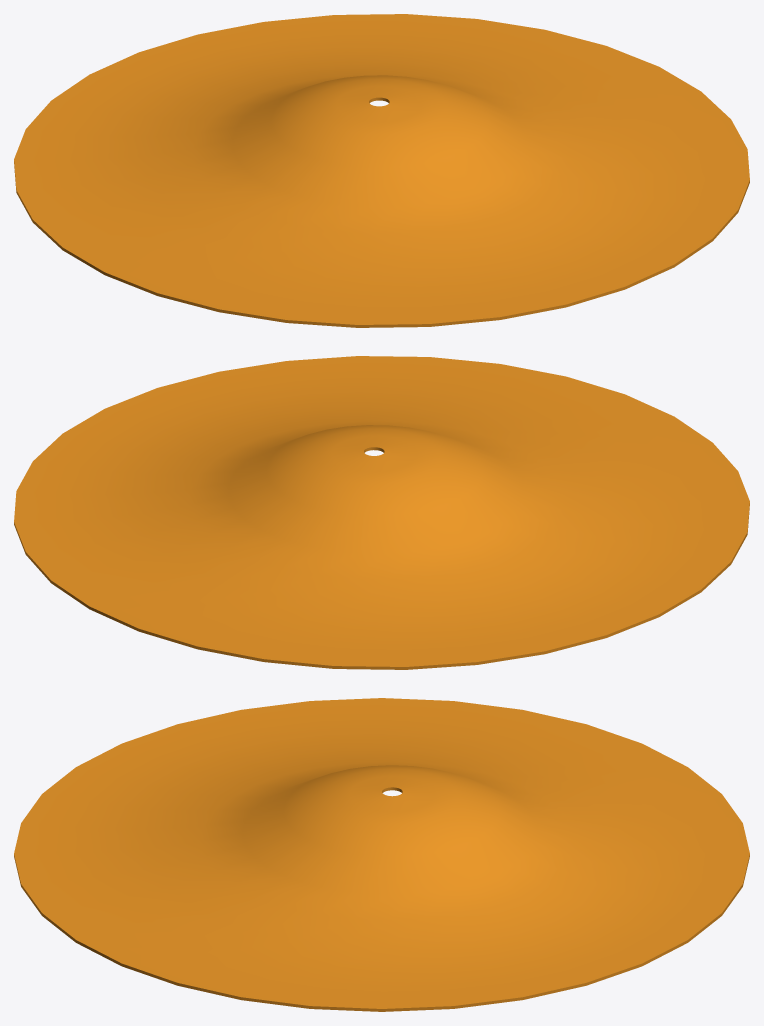
Rendered from hihat.fbx.
3 views of the same model, one above another, from view 1: azimuth 30°, elevation 25°; view 2: azimuth 150°, elevation 25°; view 3: azimuth 270°, elevation 25° (orthographic).
Parts seen in each view (by area): view 1: Circle.002; view 2: Circle.002; view 3: Circle.002.
Boxes of the visible parts, x1,y1,x2,y2 form: Circle.002: [14, 14, 749, 327]; Circle.002: [14, 356, 749, 669]; Circle.002: [14, 698, 749, 1011].
Bounding box in the file's own units: 30 × 2.96 × 30.
